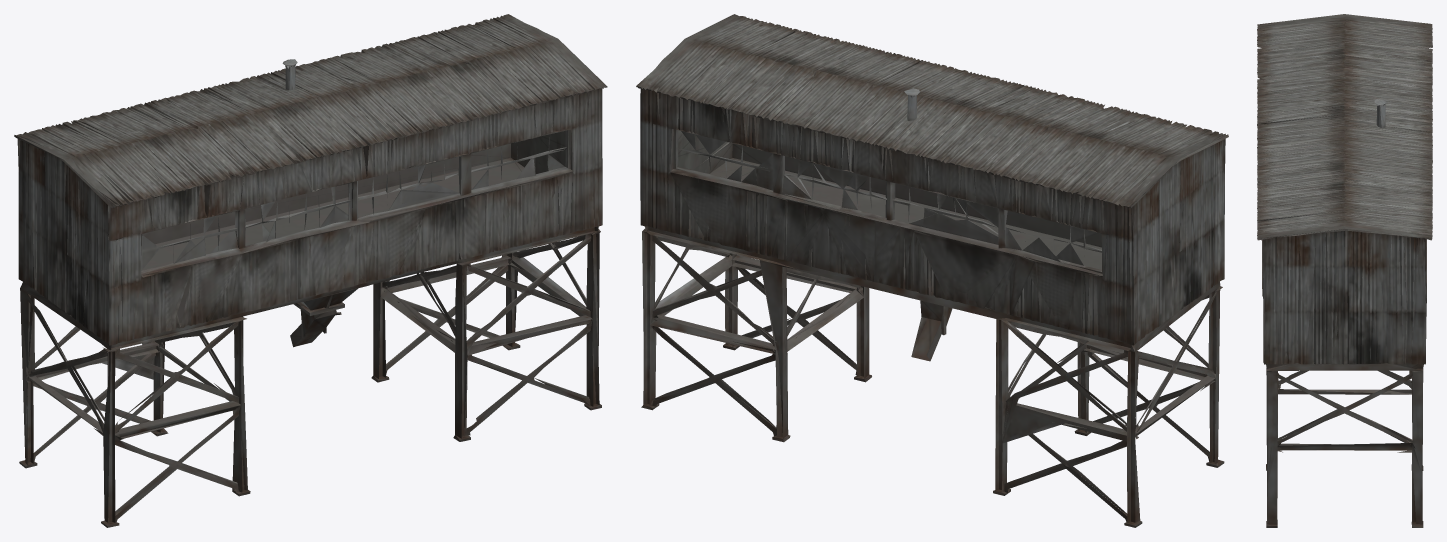
Rendered from screening_house_siebhaus_b.glb.
3 renders of one model, left to right at view 1: azimuth 30°, elevation 25°; view 2: azimuth 150°, elevation 25°; view 3: azimuth 270°, elevation 25°, orthographic. The views are drawn at different scales.
Visible parts, largest first — view 1: main; view 2: main; view 3: main.
Boxes of the visible parts, left/top/right/bottom form: main: left=14, top=14, right=607, bottom=527; main: left=636, top=14, right=1228, bottom=527; main: left=1257, top=14, right=1432, bottom=527.
Size of the model in its own units: 20.69 by 14.3 by 7.14.
Materials: 1 (1 with a texture image).
